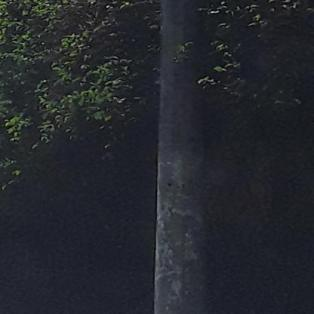Poste: (149, 0, 231, 314)
